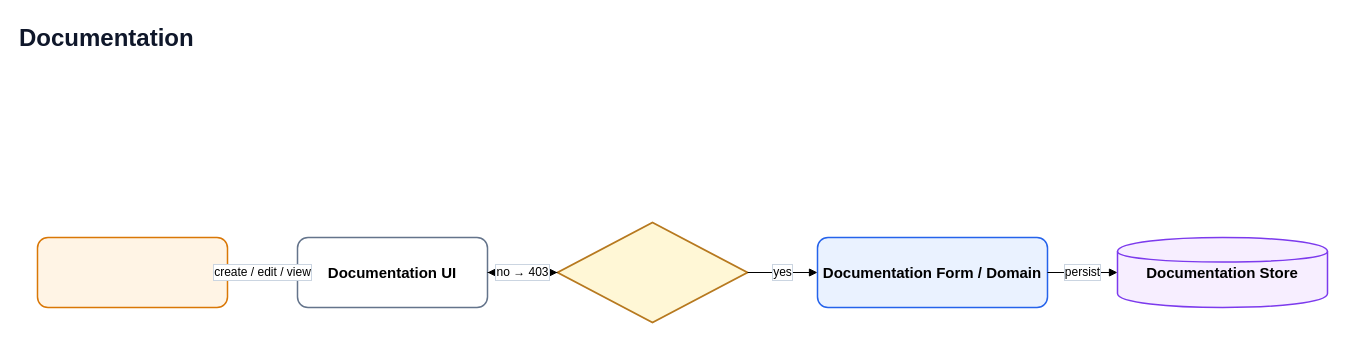
Image size: 1345x340. Some labels were removed from this diagram. The shapes that lost their labels are listed below. From the top down, each one's centre as x and y in pixels, then its label:
At (132,272): "Authorized Author".
At (652,272): "Permission Allowed?".
